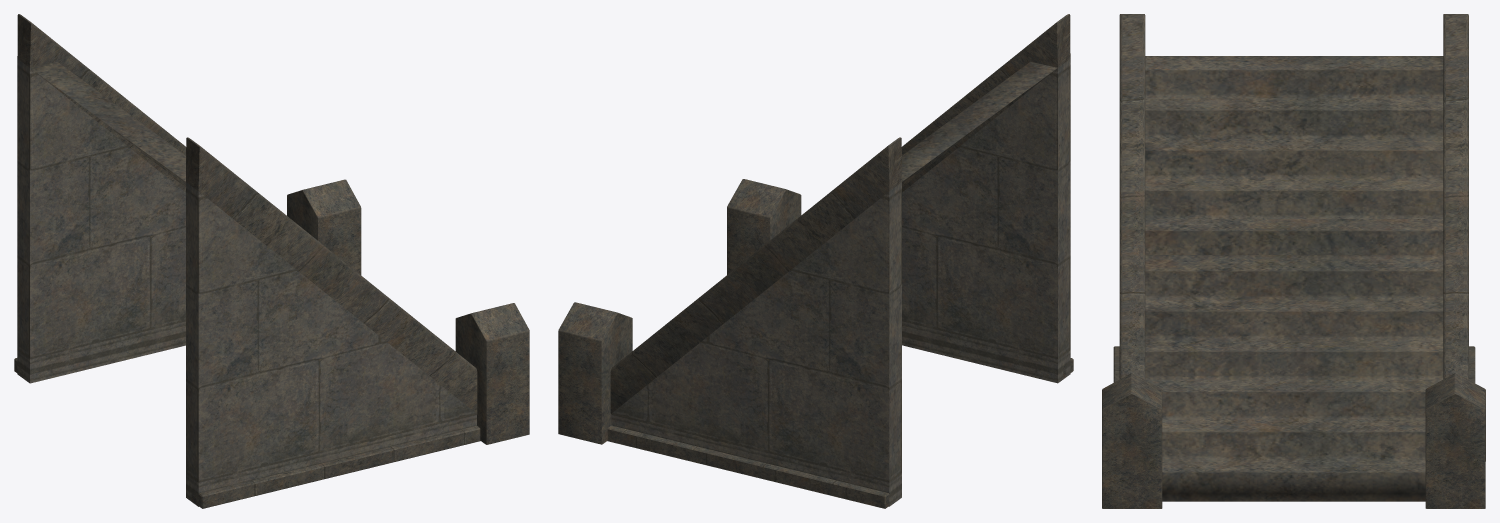
Rendered from medieval_stairs.glb.
3 views of the same model, side by side, from view 1: azimuth 30°, elevation 25°; view 2: azimuth 150°, elevation 25°; view 3: azimuth 270°, elevation 25° (orthographic). The views are drawn at different scales.
Visible parts, largest first — view 1: Staircase_side, Staircase_side.001, Staircase_bricks, Staircase_pillar, Staircase_bricks_Small, Staircase_pillar.001, Staircase, Staircase_bricks.001; view 2: Staircase_side.001, Staircase_side, Staircase_bricks.001, Staircase_pillar.001, Staircase_bricks_Small.001, Staircase_pillar, Staircase, Staircase_bricks; view 3: Staircase, Staircase_bricks, Staircase_bricks.001, Staircase_pillar, Staircase_pillar.001.
Part boxes in pixels (left/top/right/bottom): Staircase_side: left=186, top=182, right=476, bottom=506; Staircase_side.001: left=17, top=59, right=185, bottom=383; Staircase_bricks: left=186, top=137, right=477, bottom=413; Staircase_pillar: left=455, top=303, right=529, bottom=444; Staircase_bricks_Small: left=191, top=425, right=480, bottom=508; Staircase_pillar.001: left=287, top=179, right=361, bottom=274; Staircase: left=30, top=62, right=185, bottom=187; Staircase_bricks.001: left=17, top=14, right=186, bottom=192; Staircase_side.001: left=611, top=182, right=901, bottom=506; Staircase_side: left=902, top=59, right=1070, bottom=383; Staircase_bricks.001: left=610, top=137, right=901, bottom=413; Staircase_pillar.001: left=558, top=302, right=632, bottom=444; Staircase_bricks_Small.001: left=607, top=425, right=896, bottom=508; Staircase_pillar: left=727, top=179, right=801, bottom=274; Staircase: left=902, top=62, right=1057, bottom=187; Staircase_bricks: left=901, top=14, right=1070, bottom=192; Staircase: left=1145, top=56, right=1443, bottom=501; Staircase_bricks: left=1119, top=14, right=1145, bottom=379; Staircase_bricks.001: left=1443, top=14, right=1468, bottom=379; Staircase_pillar: left=1102, top=373, right=1162, bottom=508; Staircase_pillar.001: left=1425, top=373, right=1485, bottom=508.
Bounding box in the file's own units: 4.27 × 4.58 × 4.59.
5 materials, 5 textured.
